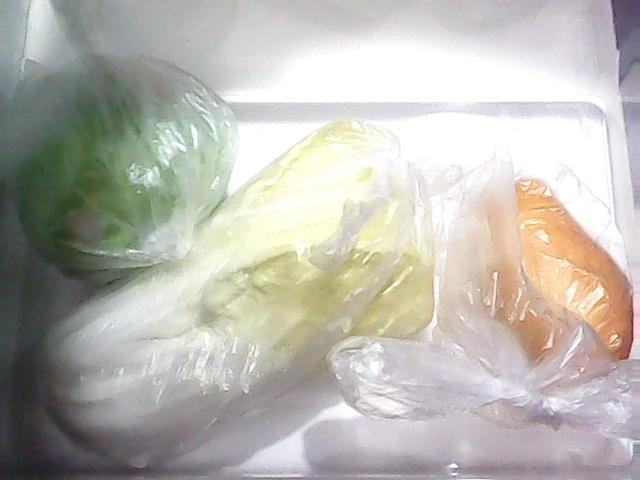cabbage: (10, 26, 244, 276)
mango: (444, 166, 638, 403)
napa cabbage: (36, 109, 430, 467)
